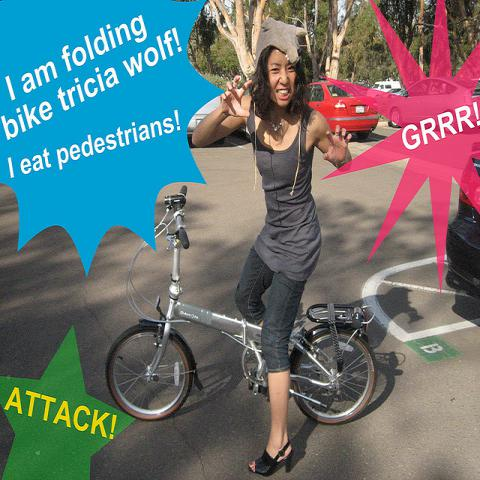car: (446, 159, 480, 299), (305, 81, 378, 145), (385, 77, 472, 129), (186, 96, 225, 146), (381, 87, 406, 101), (470, 78, 480, 95)
truck: (372, 80, 403, 92)
